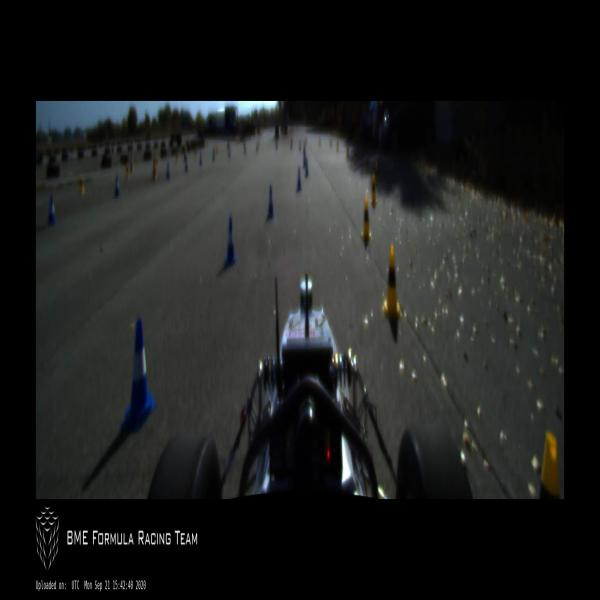blue_cone: (120, 316, 157, 434), (223, 218, 237, 270), (266, 184, 274, 221), (48, 193, 56, 228), (114, 174, 120, 198), (296, 168, 301, 194), (184, 155, 189, 172), (166, 163, 170, 180), (198, 151, 202, 167), (303, 147, 306, 167), (305, 158, 308, 177), (212, 147, 215, 162), (290, 138, 293, 151), (275, 139, 278, 152), (228, 146, 231, 158), (255, 142, 258, 152), (244, 144, 246, 155), (298, 140, 300, 150)
yellow_cone: (382, 246, 402, 318), (362, 198, 372, 240), (370, 175, 378, 206), (78, 173, 84, 196), (374, 162, 379, 186), (125, 162, 130, 180), (346, 142, 350, 162), (154, 154, 159, 169), (366, 156, 370, 174), (354, 149, 357, 163), (305, 135, 308, 146), (336, 140, 338, 151), (319, 136, 321, 146), (330, 137, 332, 146)
